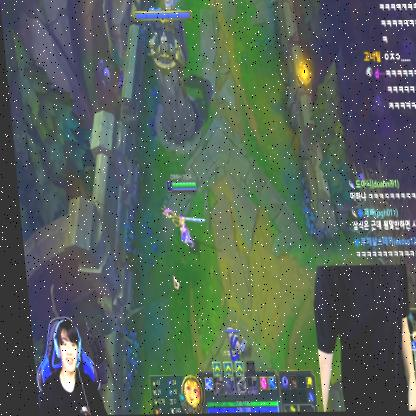streamer: (304, 265, 416, 413), (24, 316, 101, 416)
